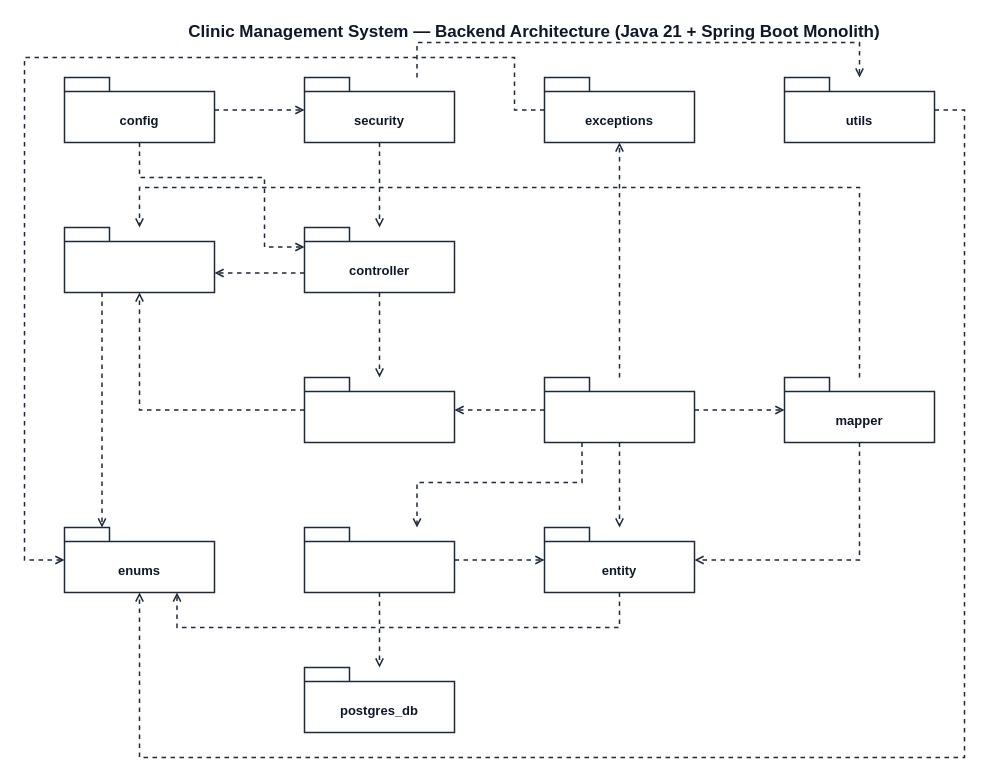
Some shapes in this 991 by 783 pixel diagram are drawn without their labels. The centre of each missing label's shape, as x and y in pixels:
dto: point 139,259
repository: point 379,559
service: point 379,409
service.impl: point 619,409
